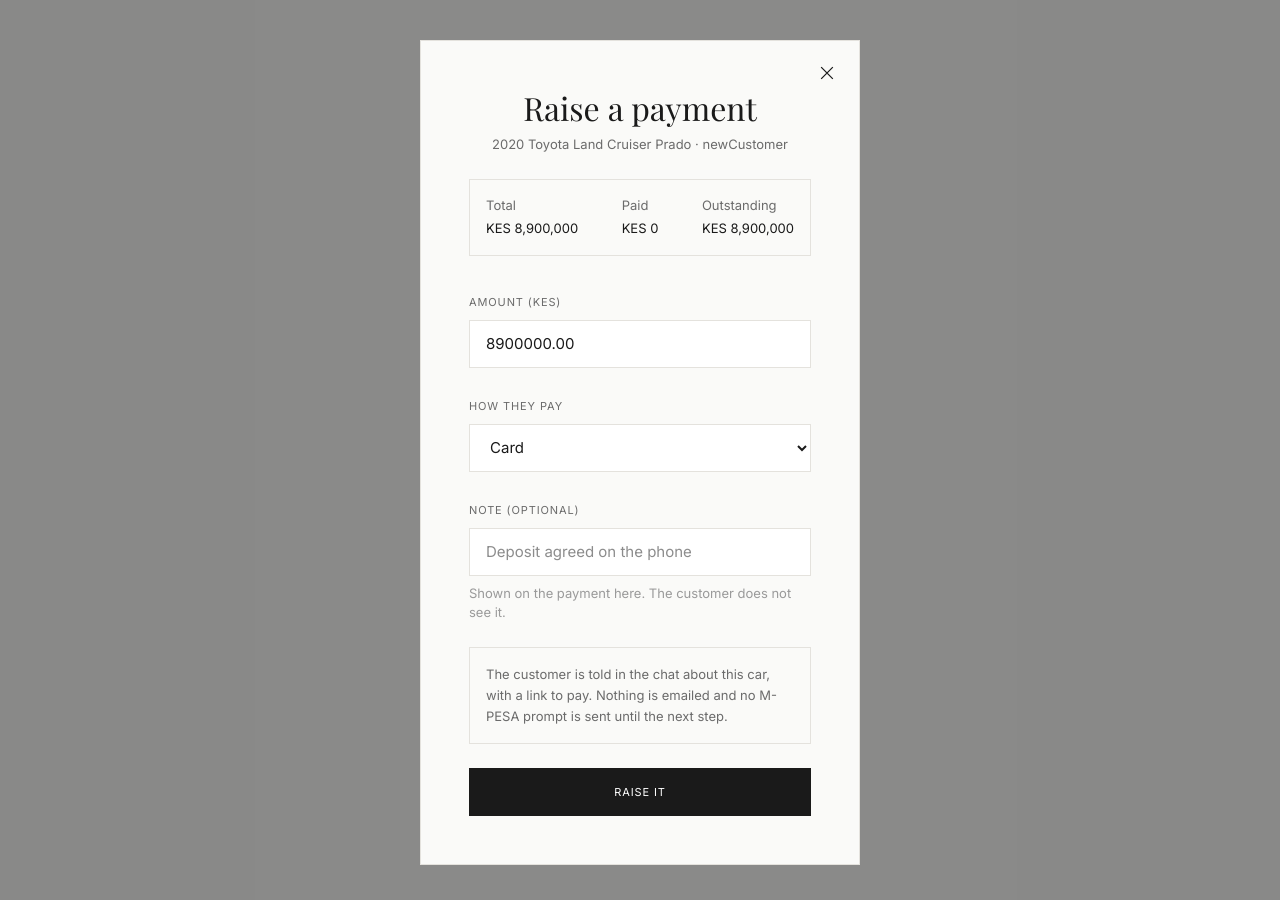
Test: after it is raised › says the customer has been told, when there was a thread to tell them in
This screenshot has width=1280, height=900.
Expected: the number field labelled "Amount (KES)" holds "8900000", [469,320,811,368]
What coordinates should you click on to do the following:
click the button "Raise it"
I would click on:
 (640, 792)
Its box is [469,768,811,816].
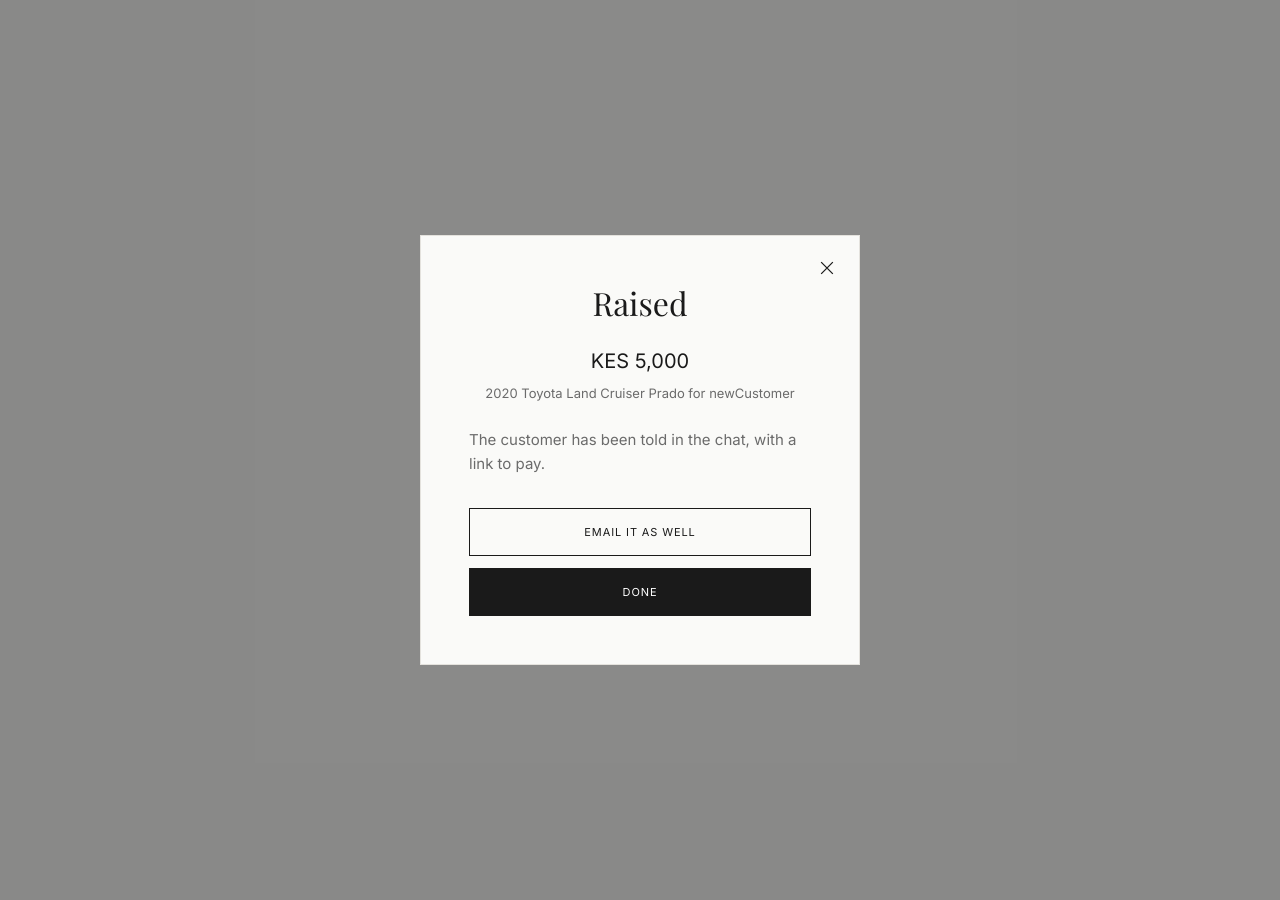
Now the text "The customer has been told in the chat, with a link to pay." is shown, box [469,428,811,476]
